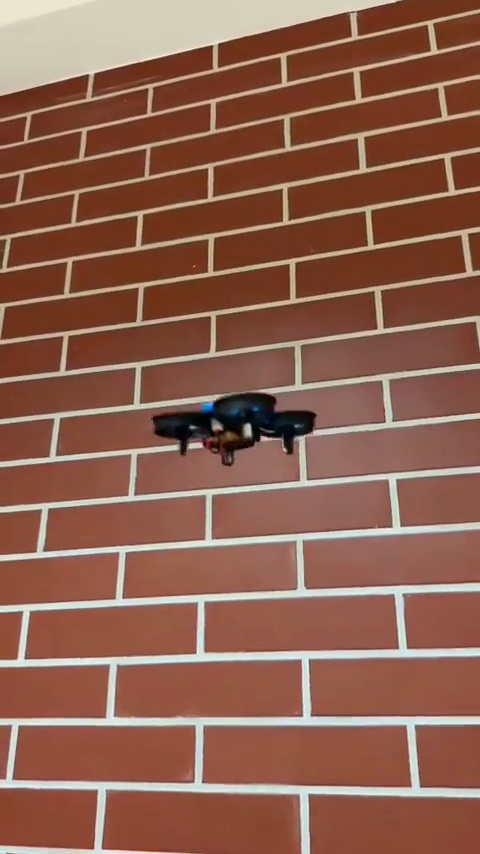drone: (154, 390, 321, 467)
